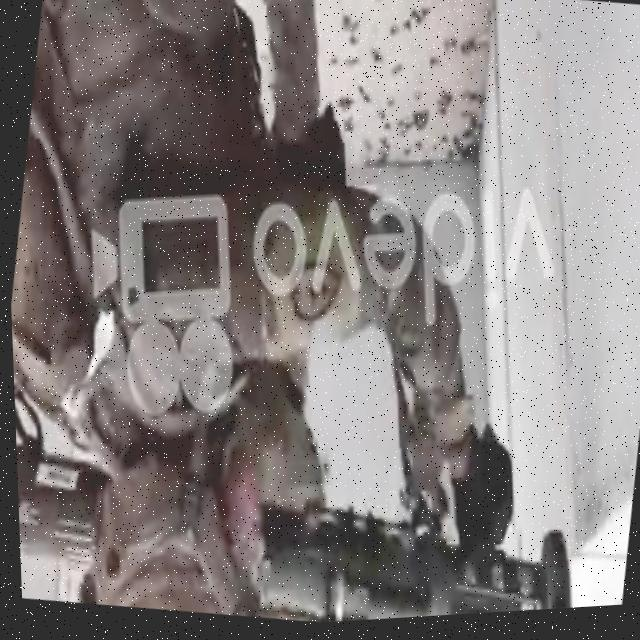rocket: (248, 469, 583, 629)
